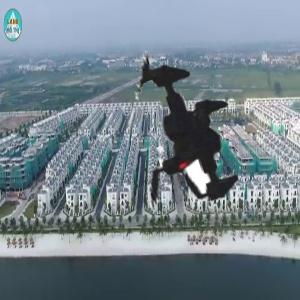drone: (56, 18, 294, 256)
